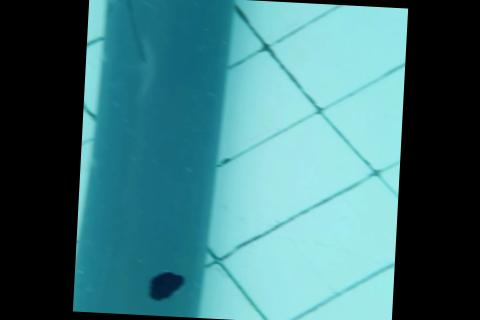kebocoran: (145, 271, 185, 302)
keretakan: (104, 0, 150, 63)
